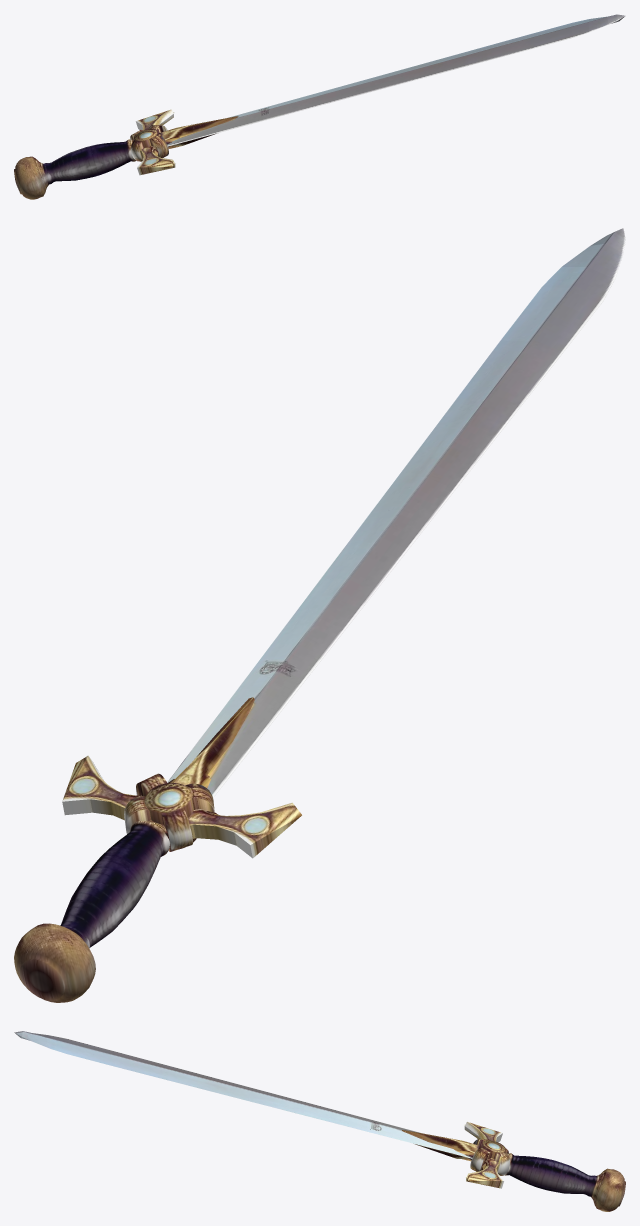
Rendered from sword1.fbx.
3 renders of one model, top to bottom at view 1: azimuth 90°, elevation 25°; view 2: azimuth 150°, elevation 25°; view 3: azimuth 270°, elevation 25°, orthographic. The views are drawn at different scales.
Parts seen in each view (by area): view 1: shord; view 2: shord; view 3: shord.
Part boxes in pixels (bbox=[...]): shord: bbox=[14, 14, 625, 199]; shord: bbox=[14, 228, 625, 1002]; shord: bbox=[14, 1031, 625, 1211].
Bounding box in the file's own units: 5939 × 8863 × 27154.
Materials: 2 (2 with a texture image).
